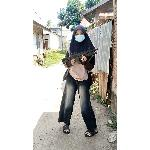Senapan: (61, 44, 103, 72)
